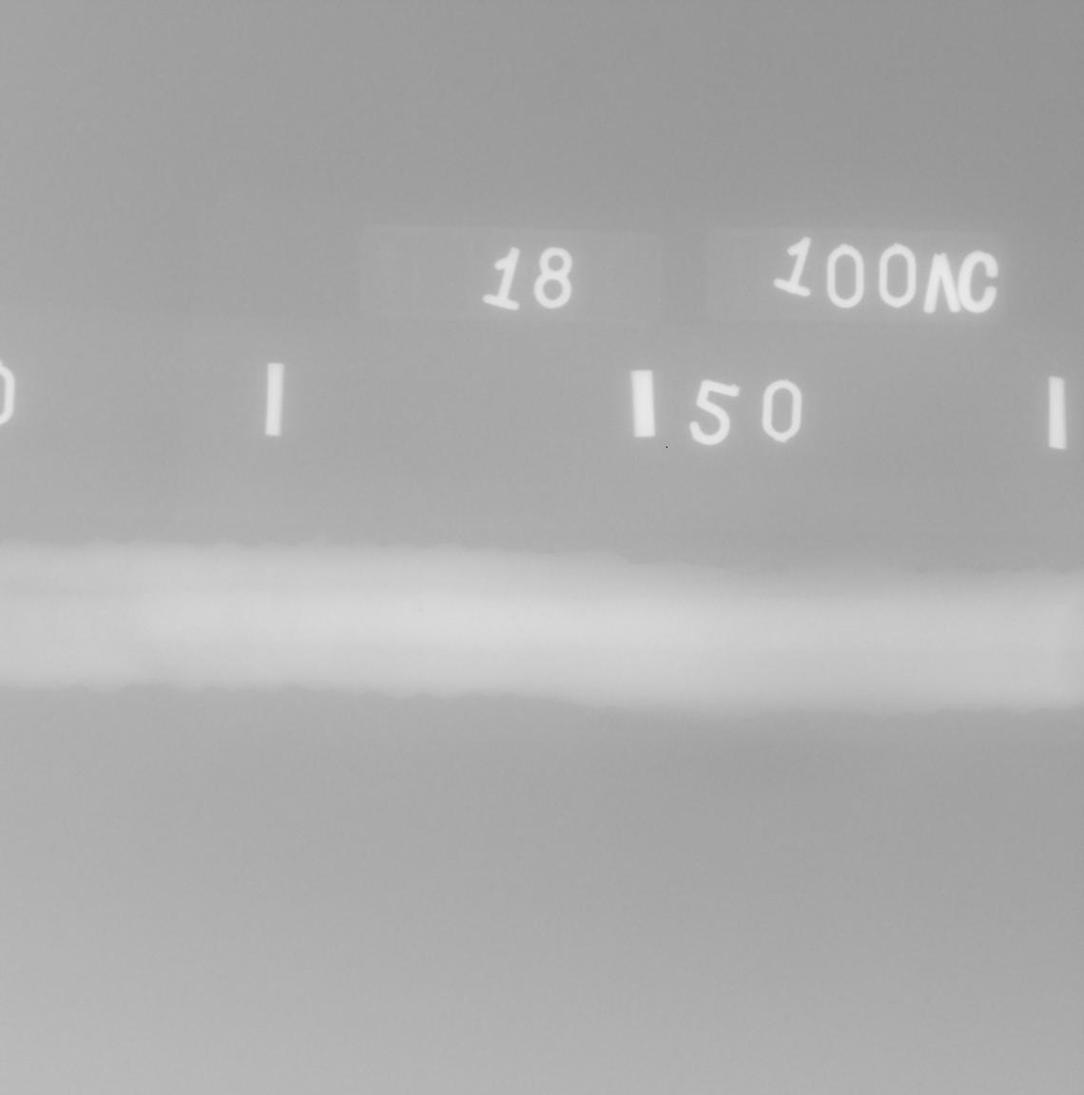Inclusion: (509, 612, 517, 620)
Pore/Porosity: (419, 608, 424, 613)
